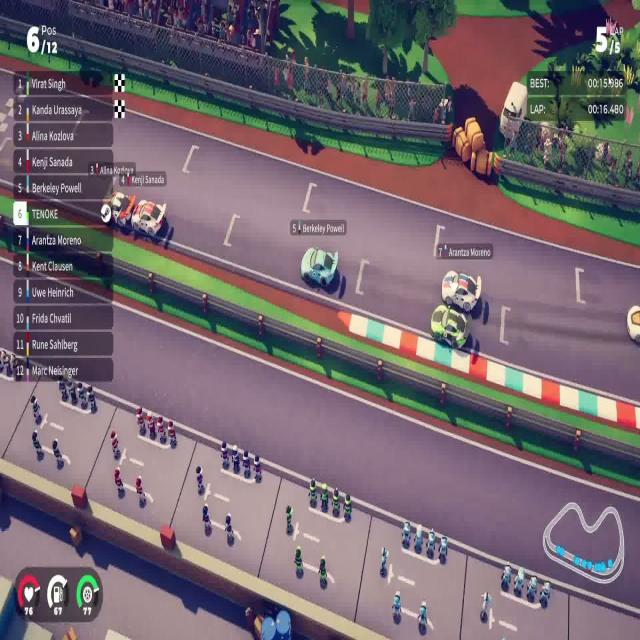car: (429, 303, 470, 350), (440, 269, 482, 314), (300, 245, 339, 289), (131, 195, 167, 238)
